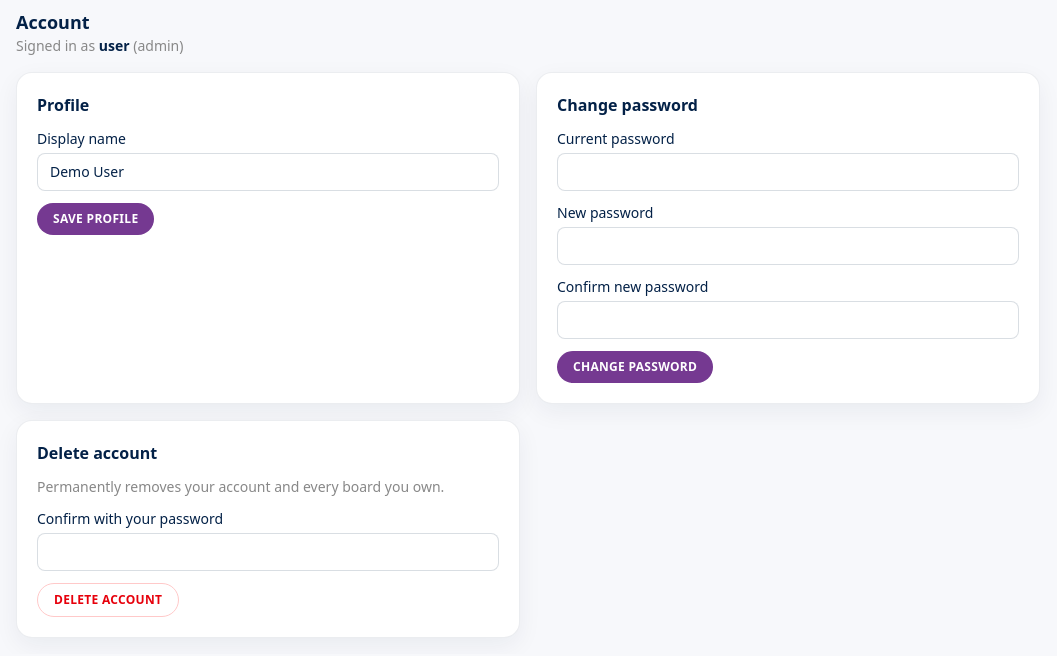
Scenario: AccountSettings › saves the display name
Replace the text in the field labelled "Display name" with "Pat" at (268, 172), box x1=37 y1=153 x2=499 y2=191
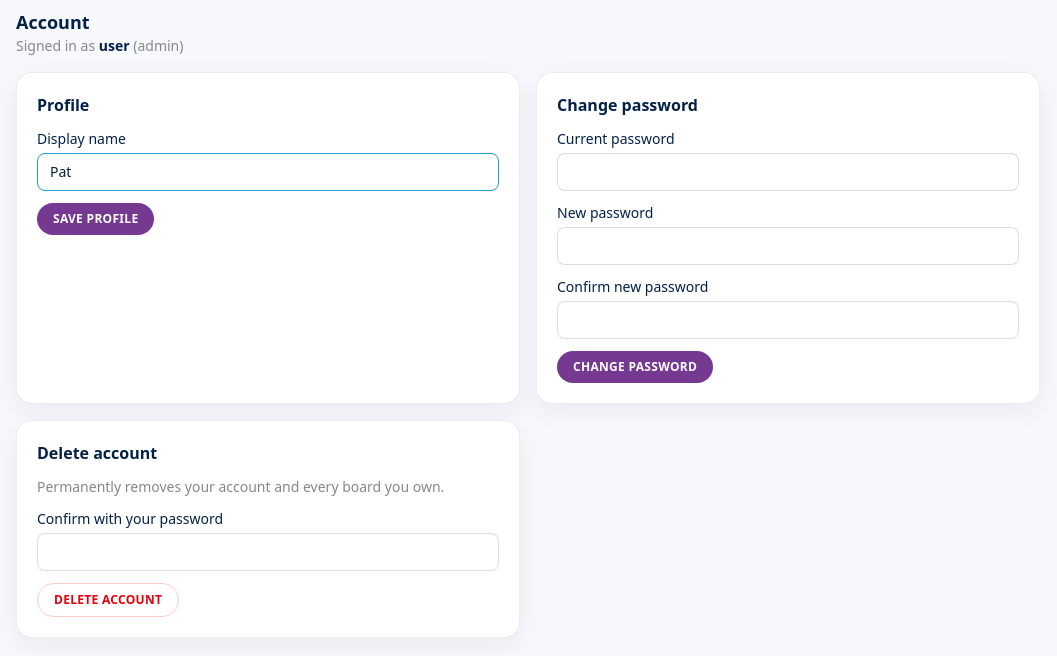
Click the button "Save profile" at (96, 219), box x1=37 y1=203 x2=154 y2=235
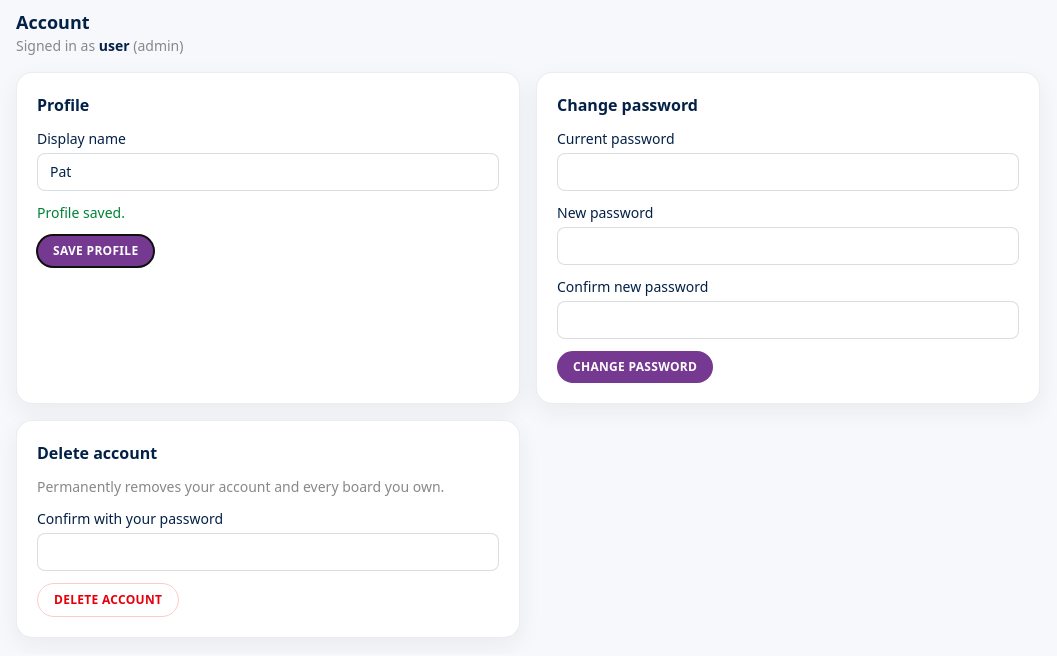
Expected: the message reads "Profile saved.", x1=37 y1=203 x2=125 y2=222
